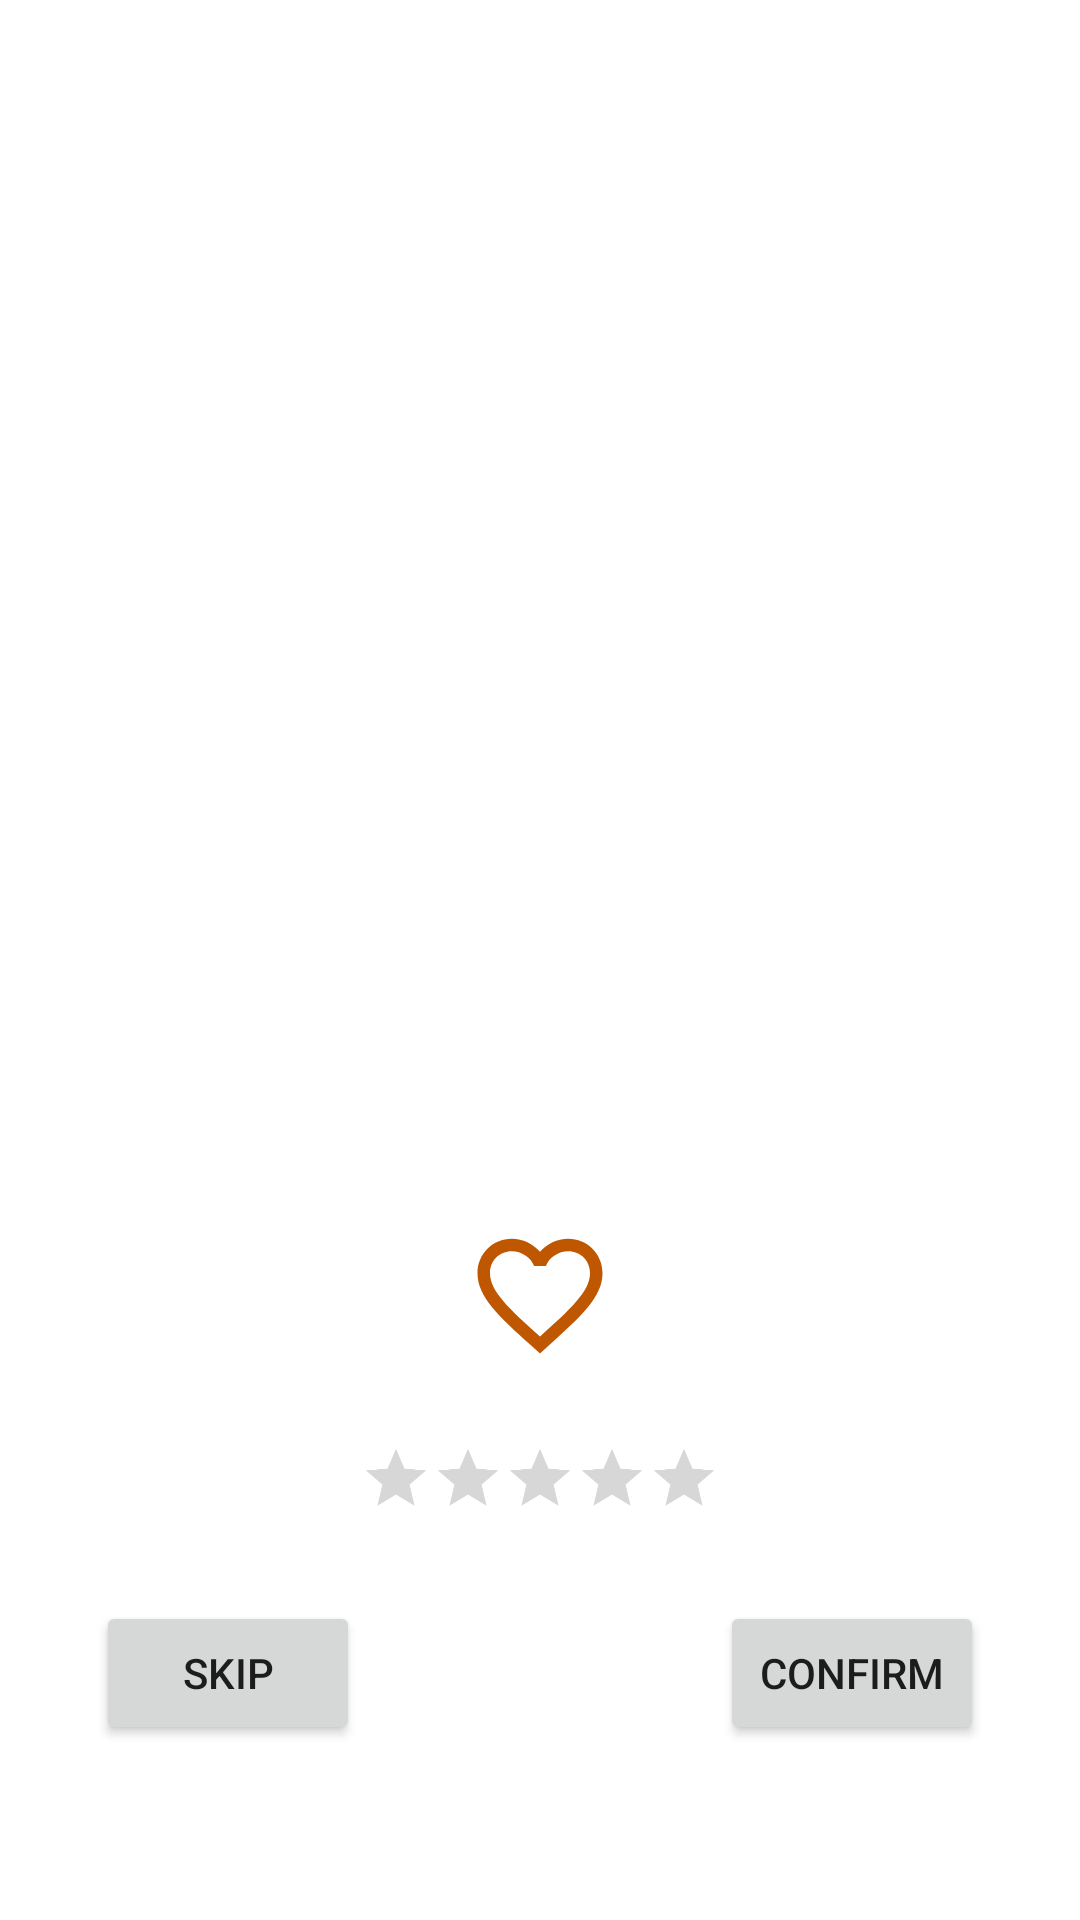

Named icons in this screenshot (1080x1920) and their centers, [x,y]:
favorite border: [540,1296]
